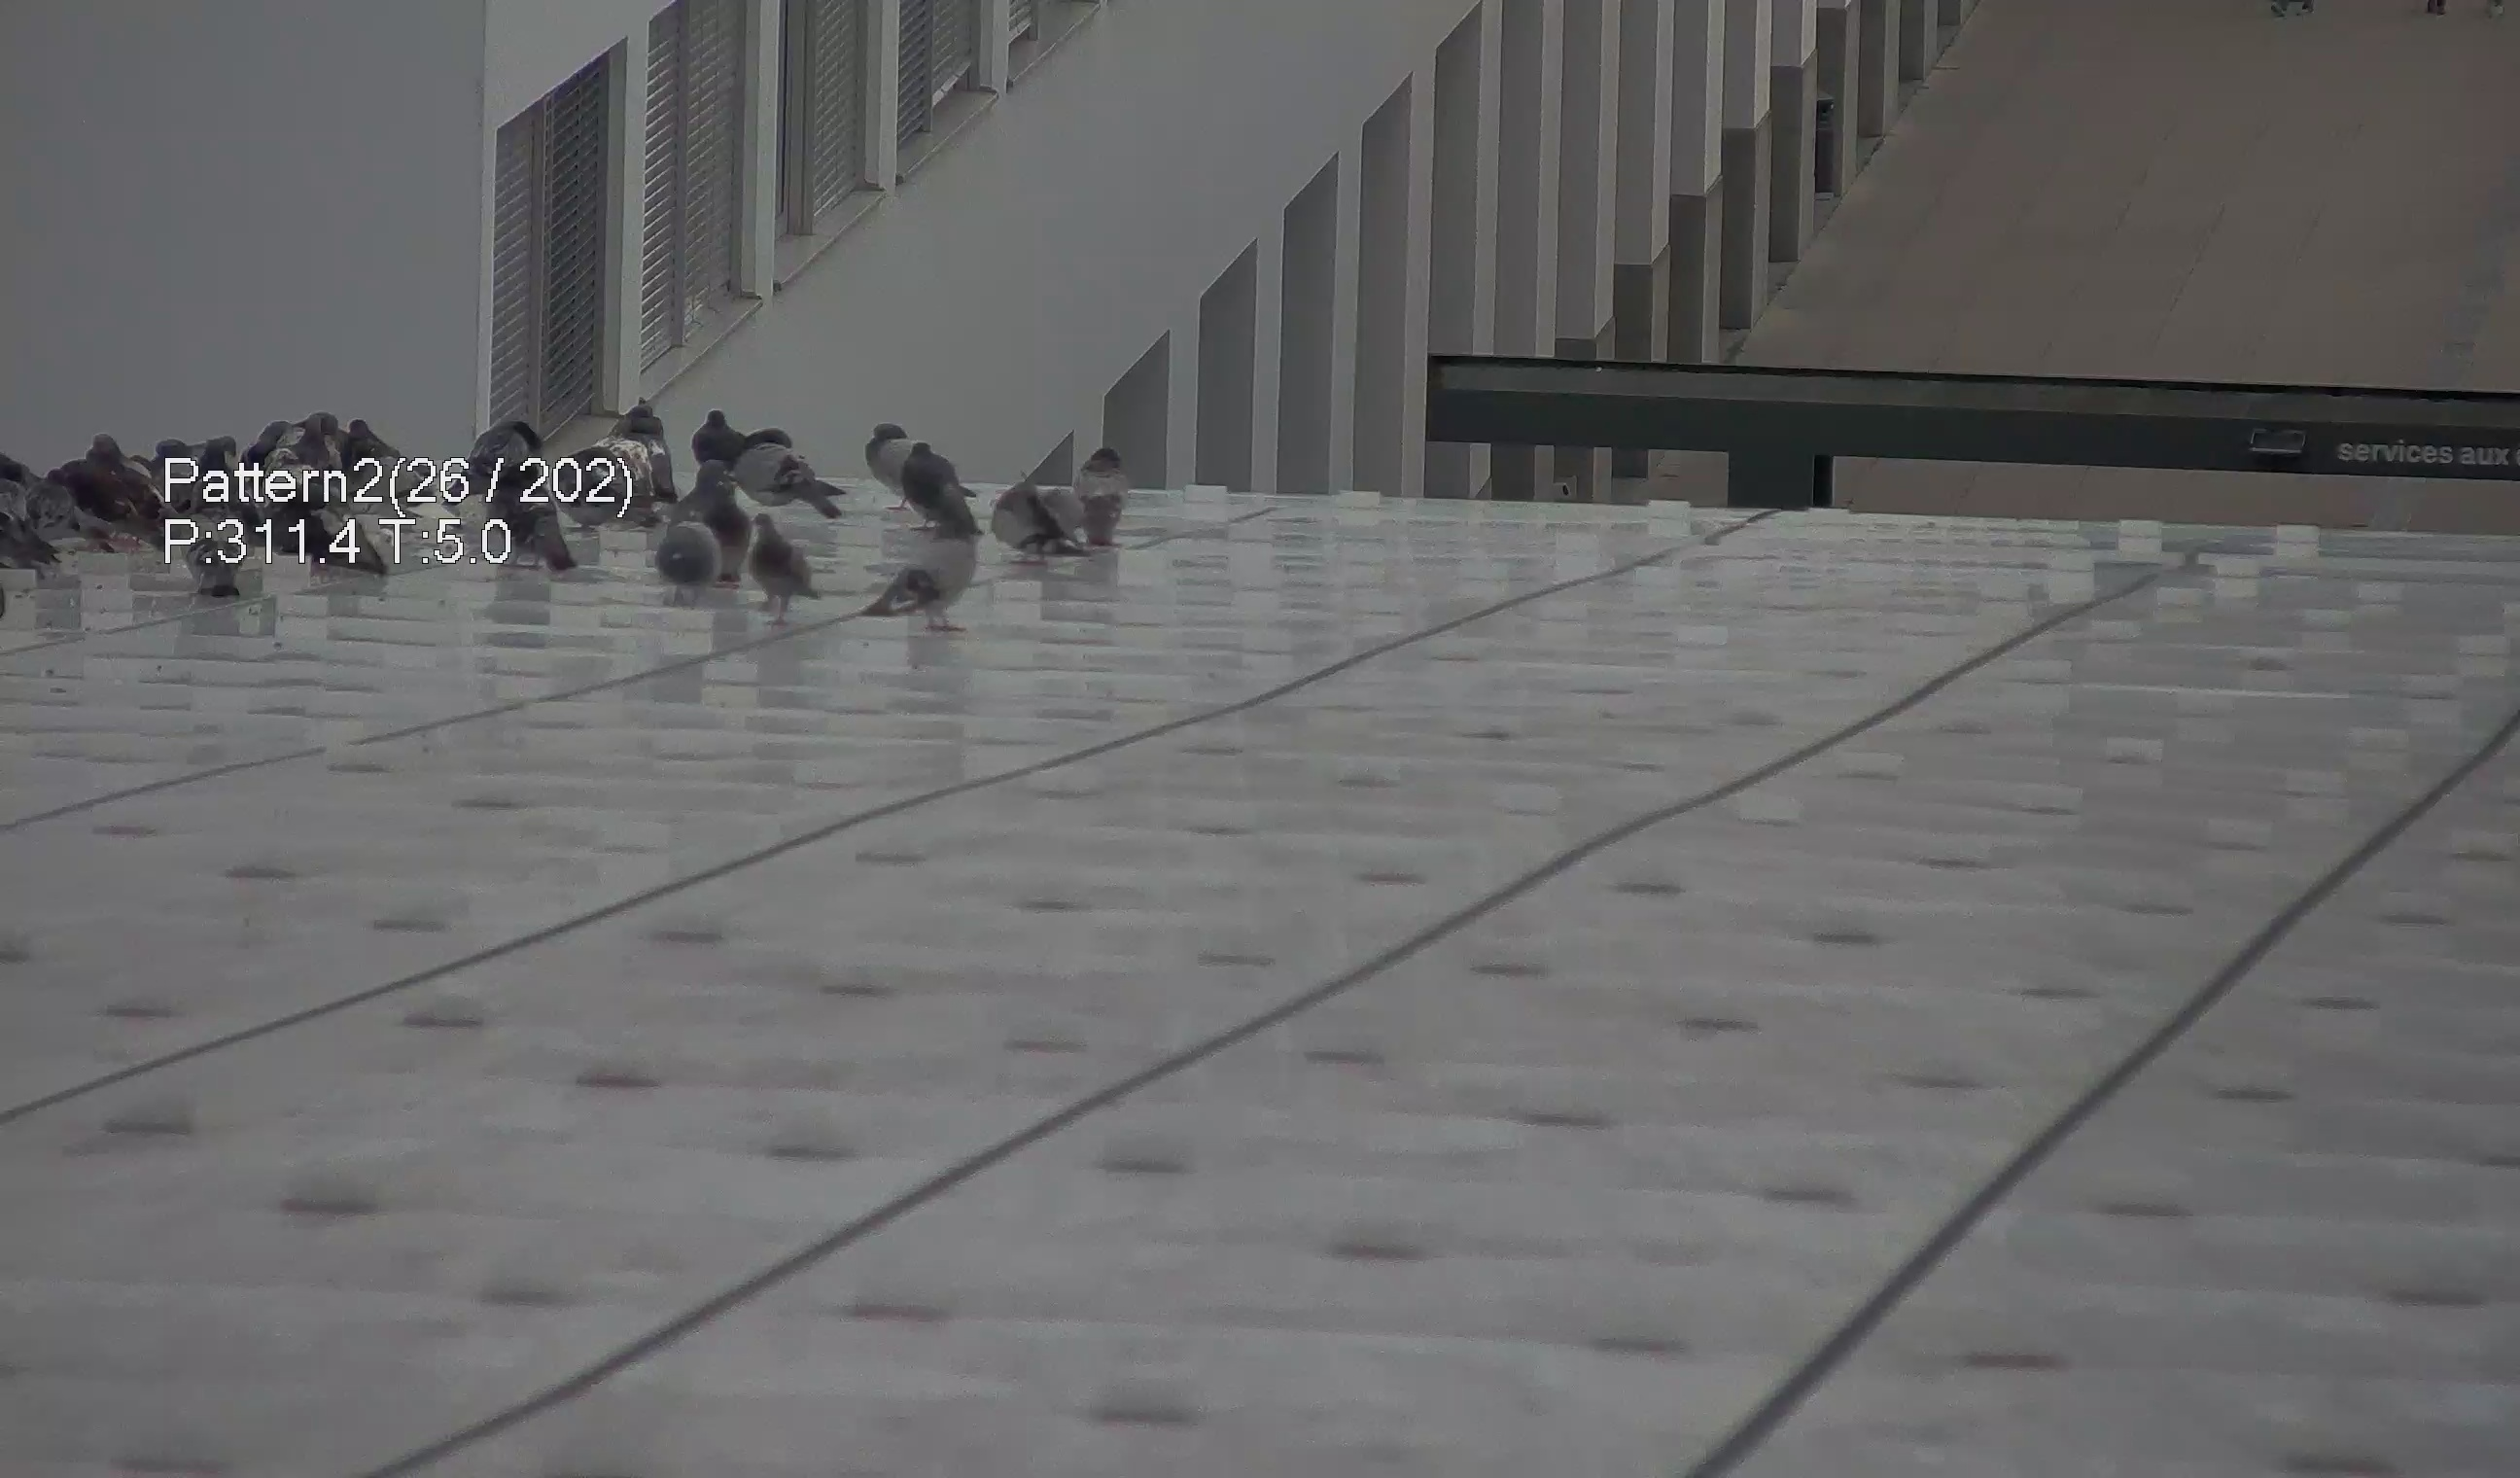Pigeon: (844, 500, 990, 625), (257, 457, 390, 572), (976, 450, 1087, 561), (654, 457, 747, 577), (732, 426, 842, 519), (1066, 428, 1145, 556), (556, 442, 665, 531), (725, 512, 811, 614), (647, 517, 730, 623), (605, 391, 684, 494), (494, 470, 570, 577), (178, 475, 236, 605), (445, 421, 538, 501), (904, 436, 983, 530), (686, 405, 756, 466), (867, 419, 909, 494)
